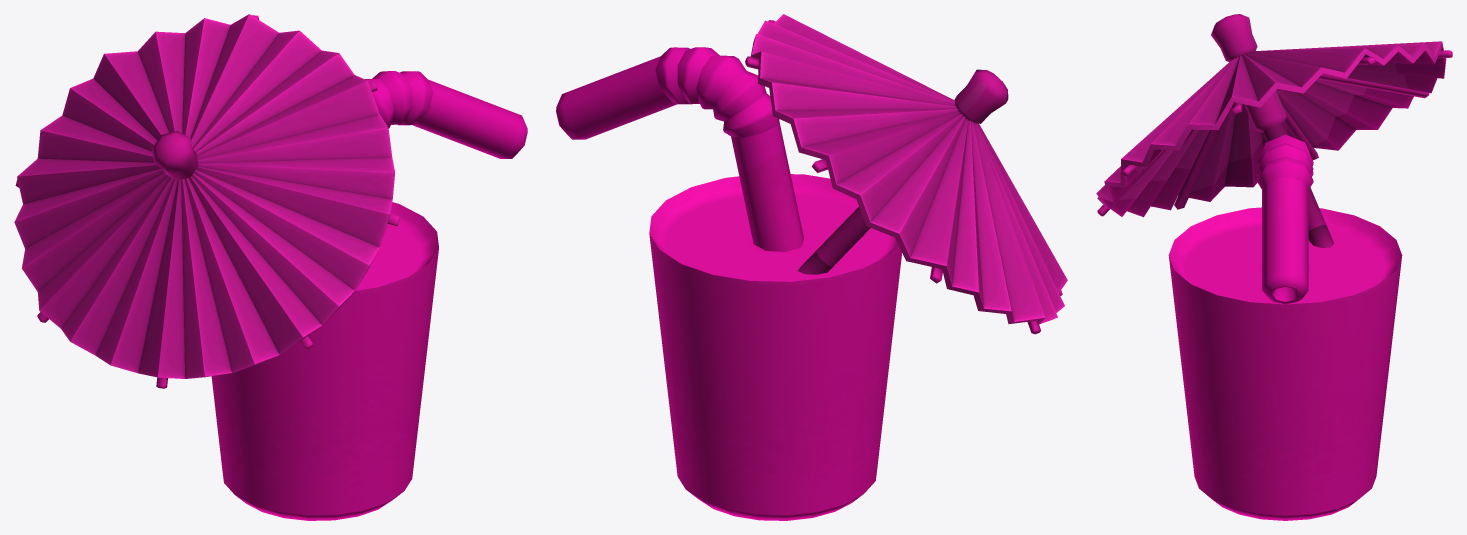
Rendered from Web_Smoothie_Mix_Berry.obj.
3 renders of one model, left to right at view 1: azimuth 30°, elevation 25°; view 2: azimuth 150°, elevation 25°; view 3: azimuth 270°, elevation 25°, orthographic. The views are drawn at different scales.
Visible parts, largest first — view 1: m_recipe_megaSmoothie_01(Clone)_0; view 2: m_recipe_megaSmoothie_01(Clone)_0; view 3: m_recipe_megaSmoothie_01(Clone)_0.
Boxes of the visible parts, x1,y1,x2,y2 form: m_recipe_megaSmoothie_01(Clone)_0: (14, 14, 527, 520); m_recipe_megaSmoothie_01(Clone)_0: (556, 14, 1067, 520); m_recipe_megaSmoothie_01(Clone)_0: (1096, 14, 1452, 520).
Size of the model in its own units: 1.11 by 1.01 by 0.7635.
Materials: 1 (1 with a texture image).
